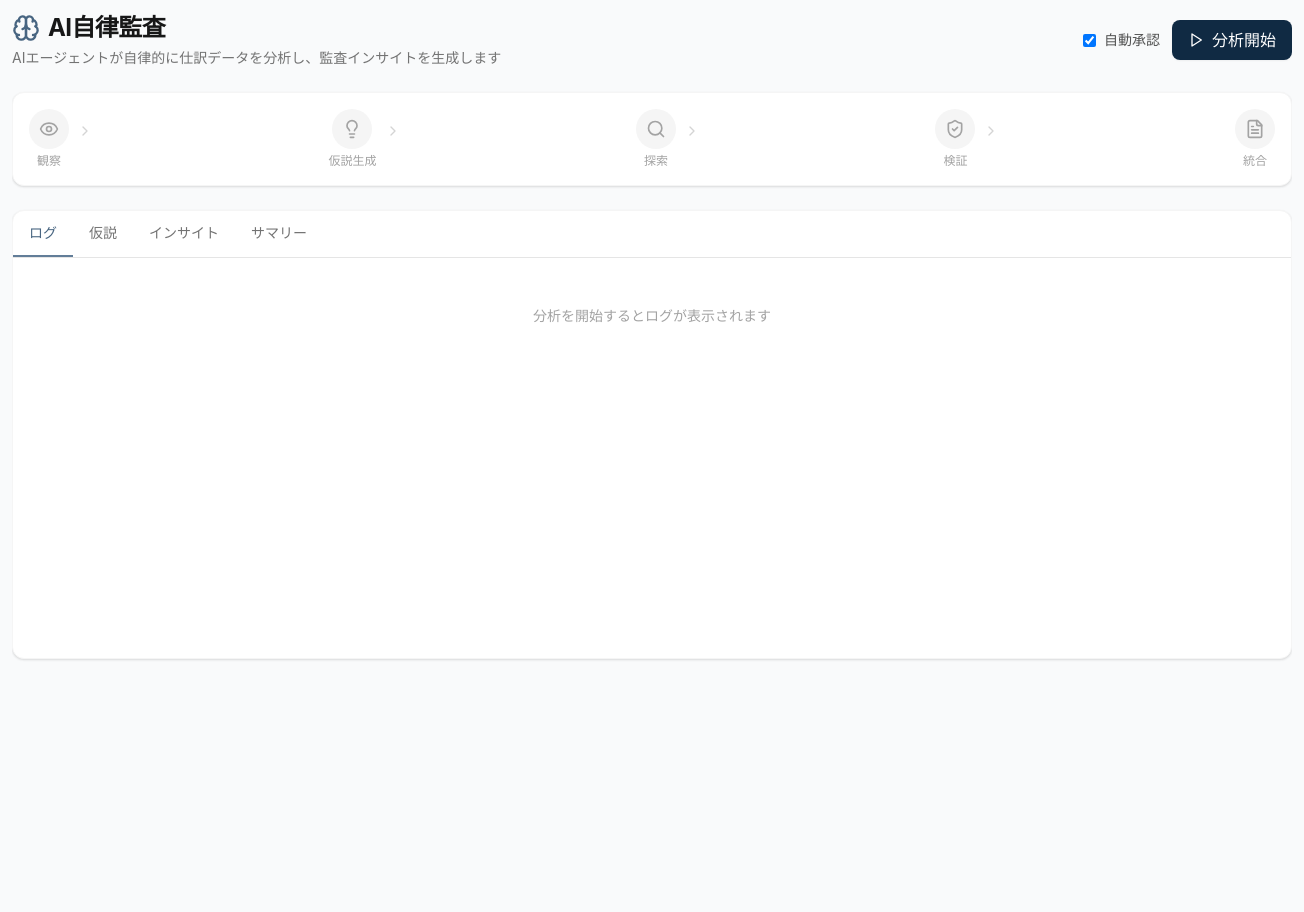
Test case: AutonomousAuditPage › switches to insights tab and shows empty message
The image size is (1304, 912).
Click the button "インサイト". click: (184, 234)
box: x1=133 y1=211 x2=235 y2=257
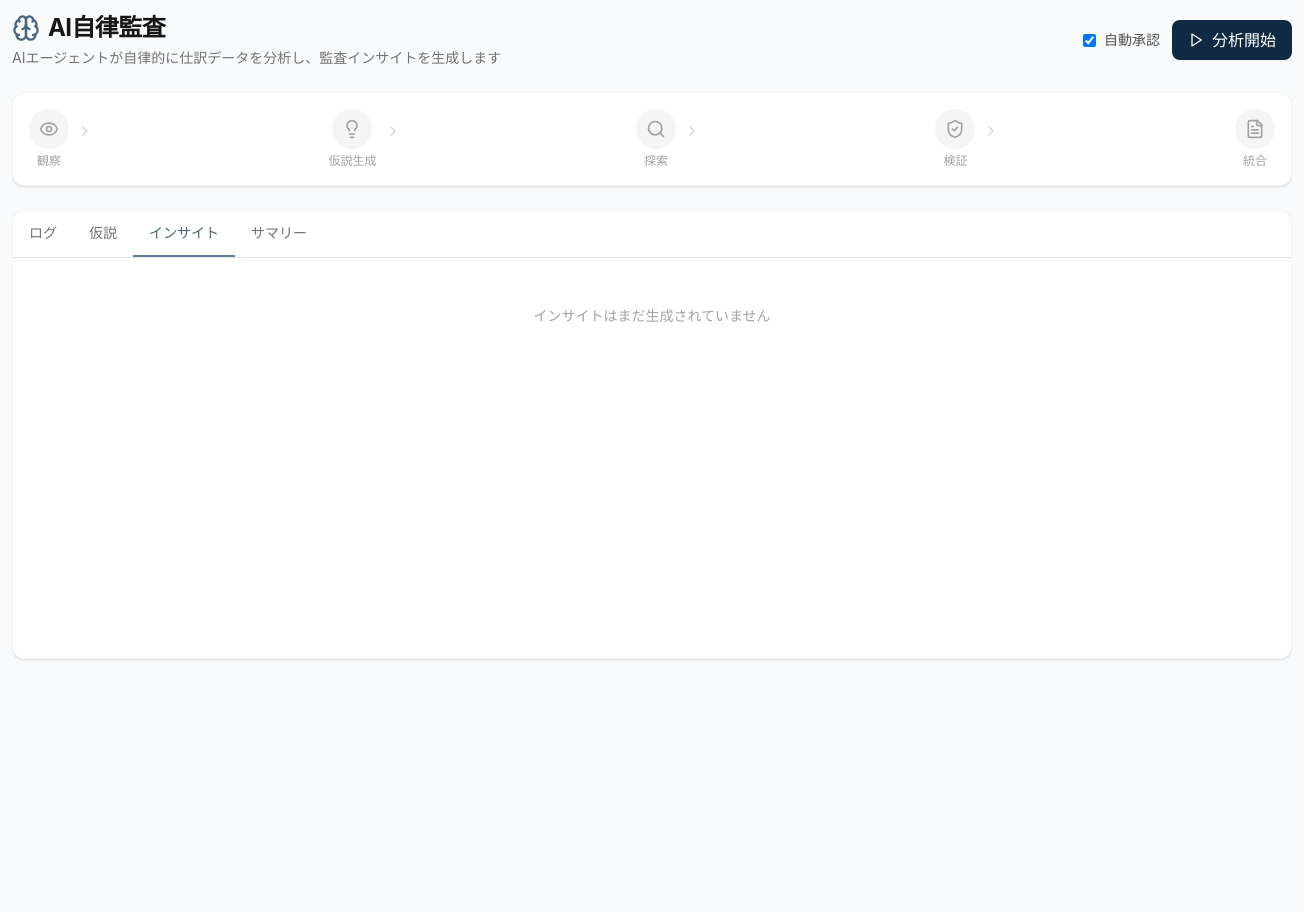
Expected: the text "インサイトはまだ生成されていません" is shown, x1=533 y1=307 x2=771 y2=324
